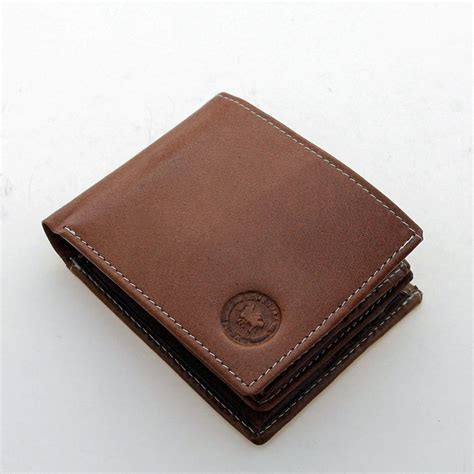cuero: (40, 91, 425, 448)
